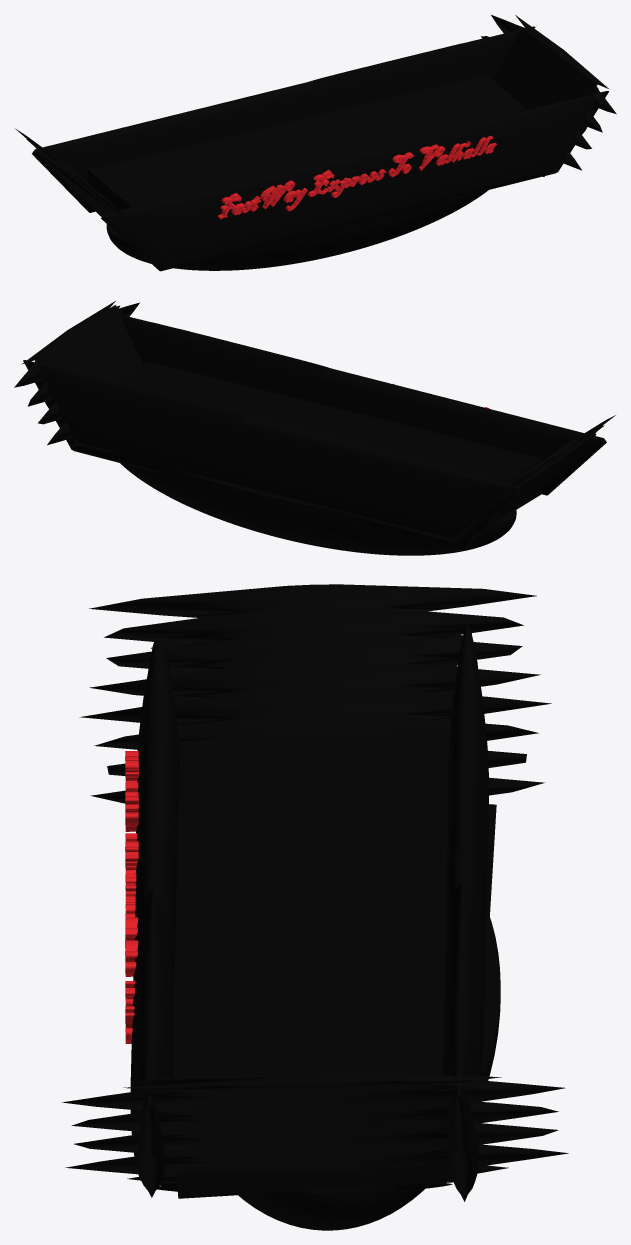
Rendered from valhallaexpress.fbx.
3 renders of one model, top to bottom at view 1: azimuth 30°, elevation 25°; view 2: azimuth 150°, elevation 25°; view 3: azimuth 270°, elevation 25°, orthographic. The views are drawn at different scales.
Visible parts, largest first — view 1: root (×7), node_id315; view 2: root (×7); view 3: root (×6), node_id315.
Boxes of the visible parts, x1=… form: root (×7): x1=15, y1=15, x2=616, y2=271; node_id315: x1=217, y1=135, x2=496, y2=219; root (×7): x1=14, y1=301, x2=615, y2=555; root (×6): x1=61, y1=584, x2=568, y2=1230; node_id315: x1=125, y1=751, x2=138, y2=1043.
Size of the model in its own units: 1.32 by 0.3596 by 0.5671.
